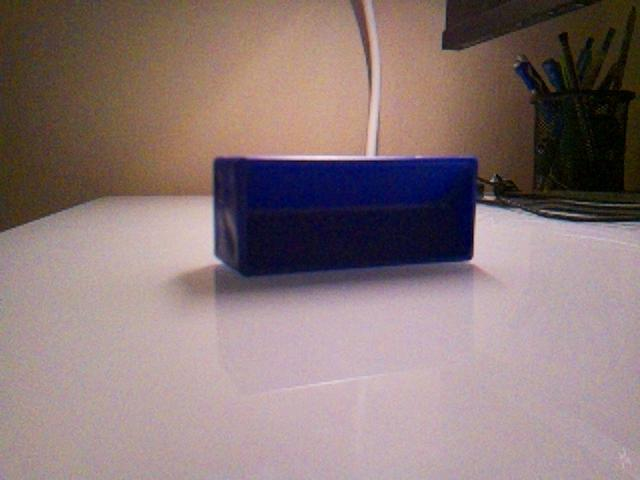blue: (211, 152, 480, 277)
